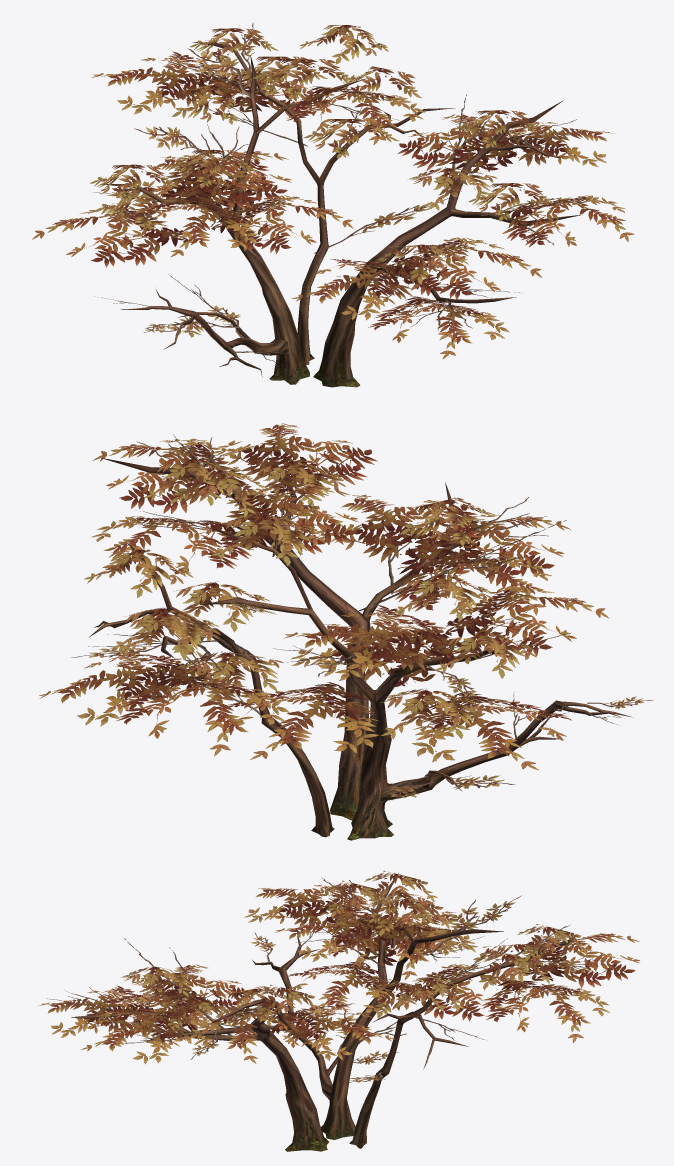
The model's file is S_Tree_Yellow077.FBX.
3 renders of one model, top to bottom at view 1: azimuth 30°, elevation 25°; view 2: azimuth 150°, elevation 25°; view 3: azimuth 270°, elevation 25°, orthographic. The views are drawn at different scales.
Visible parts, largest first — view 1: S_Tree_Yellow077; view 2: S_Tree_Yellow077; view 3: S_Tree_Yellow077.
Part boxes in pixels (x1=…): S_Tree_Yellow077: x1=32, y1=22, x2=634, y2=387; S_Tree_Yellow077: x1=39, y1=423, x2=653, y2=840; S_Tree_Yellow077: x1=39, y1=870, x2=639, y2=1151.
Size of the model in its own units: 542 by 660 by 316.
Materials: 1 (1 with a texture image).
